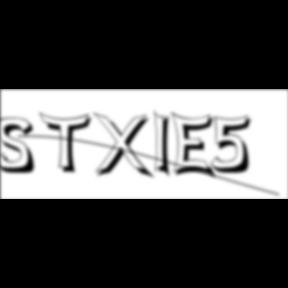5: (210, 114, 258, 176)
E: (172, 110, 220, 182)
S: (0, 117, 42, 176)
T: (39, 112, 97, 176)
X: (93, 112, 157, 182)
l: (154, 108, 178, 182)
